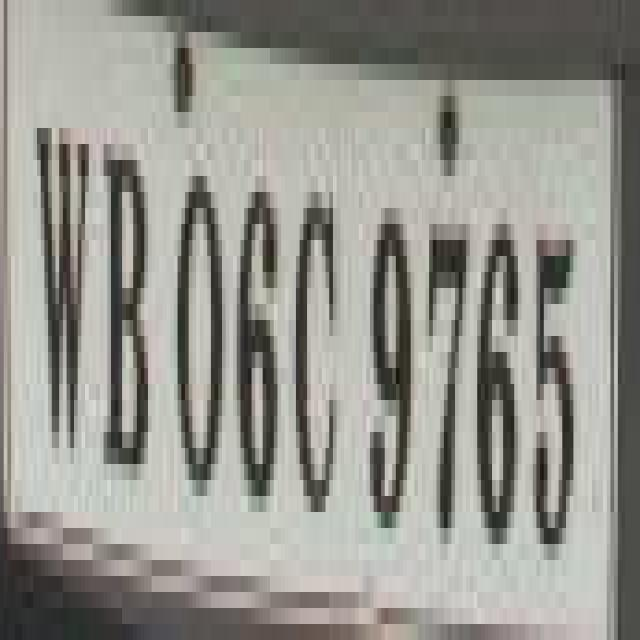license_plate: (0, 32, 610, 640)
